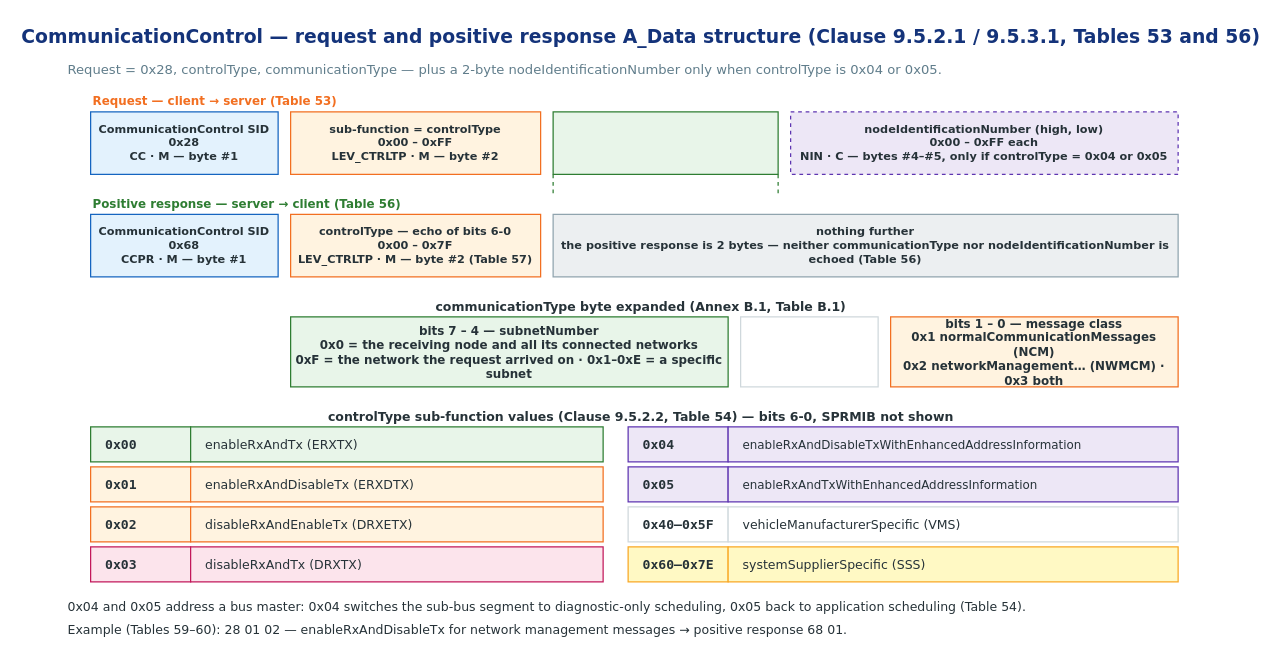
Image size: 1281x660. Some labels were removed from this diagram. The shapes that lost their labels are listed below. From the top down, each one's centre as x and y in pixels, then its label:
At (665,142): "communicationType 0x00 – 0xFF CTP · M — byte #3, bit-coded".
At (808,351): "bits 3 – 2 ISOSAEReserved".
